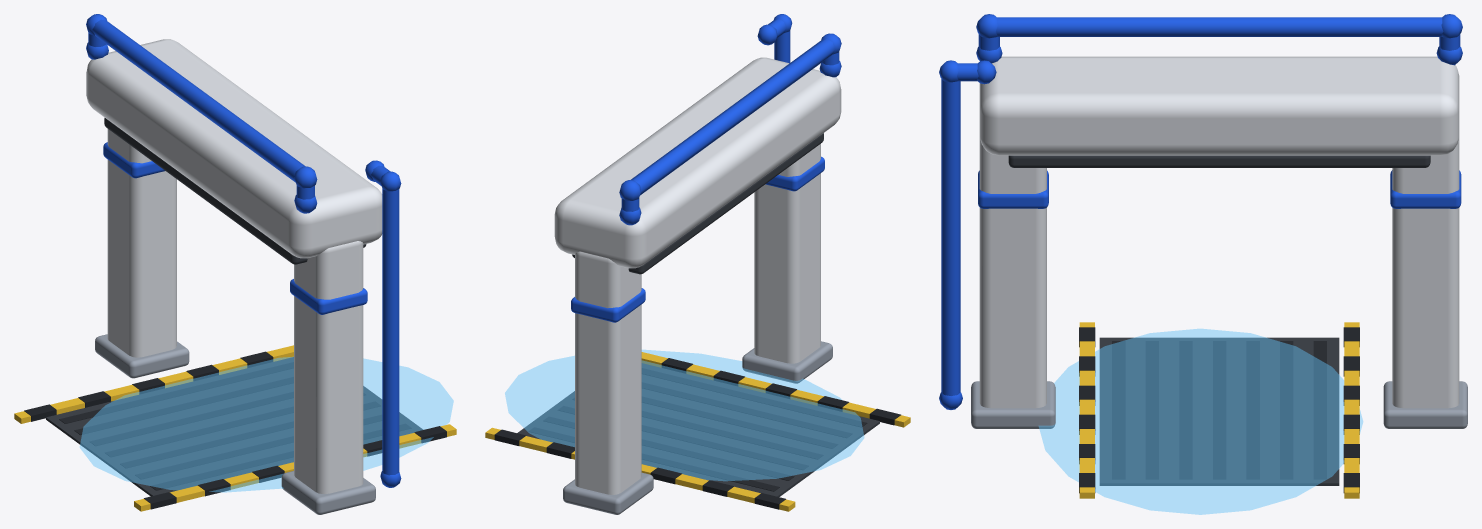
File: machine_rinse.glb
3 views of the same model, side by side, from view 1: azimuth 30°, elevation 25°; view 2: azimuth 150°, elevation 25°; view 3: azimuth 270°, elevation 25° (orthographic). The views are drawn at different scales.
Parts seen in each view (by area): view 1: Machine_rinse, Floor, Puddle; view 2: Machine_rinse, Floor, Puddle; view 3: Machine_rinse, Puddle, Floor.
Part boxes in pixels (bbox=[...]): Machine_rinse: bbox=[86, 14, 401, 514]; Floor: bbox=[14, 345, 456, 511]; Puddle: bbox=[79, 356, 453, 492]; Machine_rinse: bbox=[554, 14, 841, 514]; Floor: bbox=[485, 352, 910, 511]; Puddle: bbox=[505, 349, 864, 481]; Machine_rinse: bbox=[939, 14, 1467, 428]; Puddle: bbox=[1039, 328, 1363, 514]; Floor: bbox=[1079, 322, 1359, 498].
Size of what is drawn, in the model's own units: 4.7 by 4.39 by 5.51.
